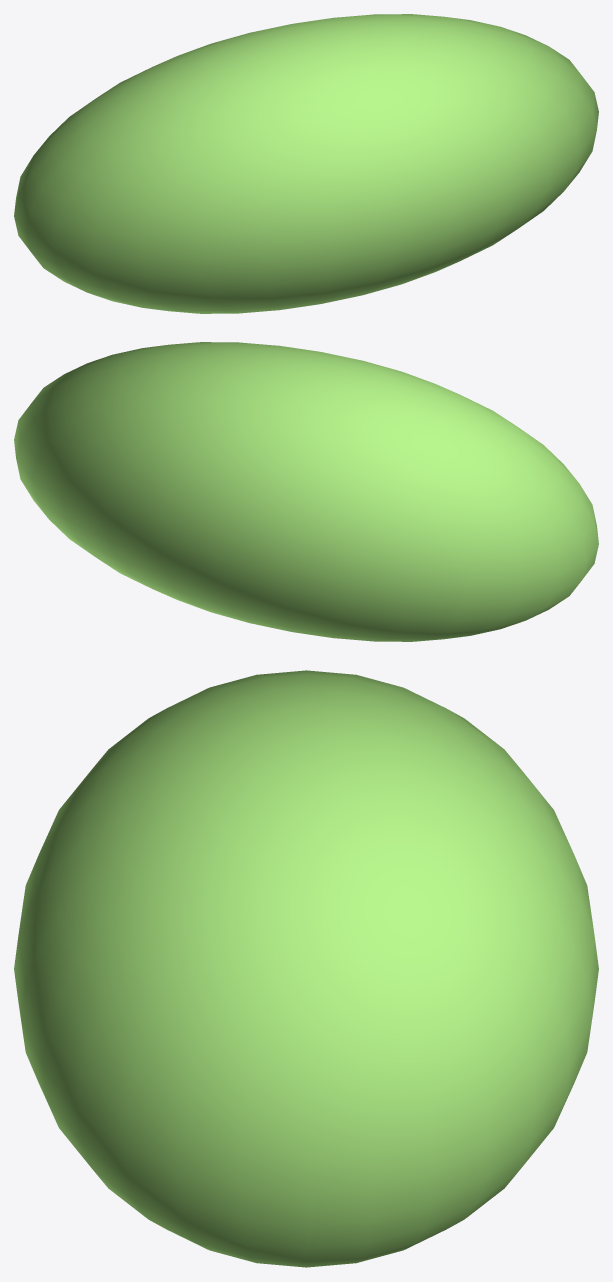
File: chloroplast.glb
The picture shows the model from 3 angles, top to bottom: view 1: azimuth 30°, elevation 25°; view 2: azimuth 150°, elevation 25°; view 3: azimuth 270°, elevation 25°; orthographic projection. The views are drawn at different scales.
Visible parts, largest first — view 1: Chloroplast Shell; view 2: Chloroplast Shell; view 3: Chloroplast Shell.
Boxes of the visible parts, left/top/right/bottom form: Chloroplast Shell: left=14, top=14, right=598, bottom=313; Chloroplast Shell: left=14, top=342, right=598, bottom=641; Chloroplast Shell: left=14, top=670, right=598, bottom=1267.
Size of the model in its own units: 1.1 by 0.44 by 0.6.
